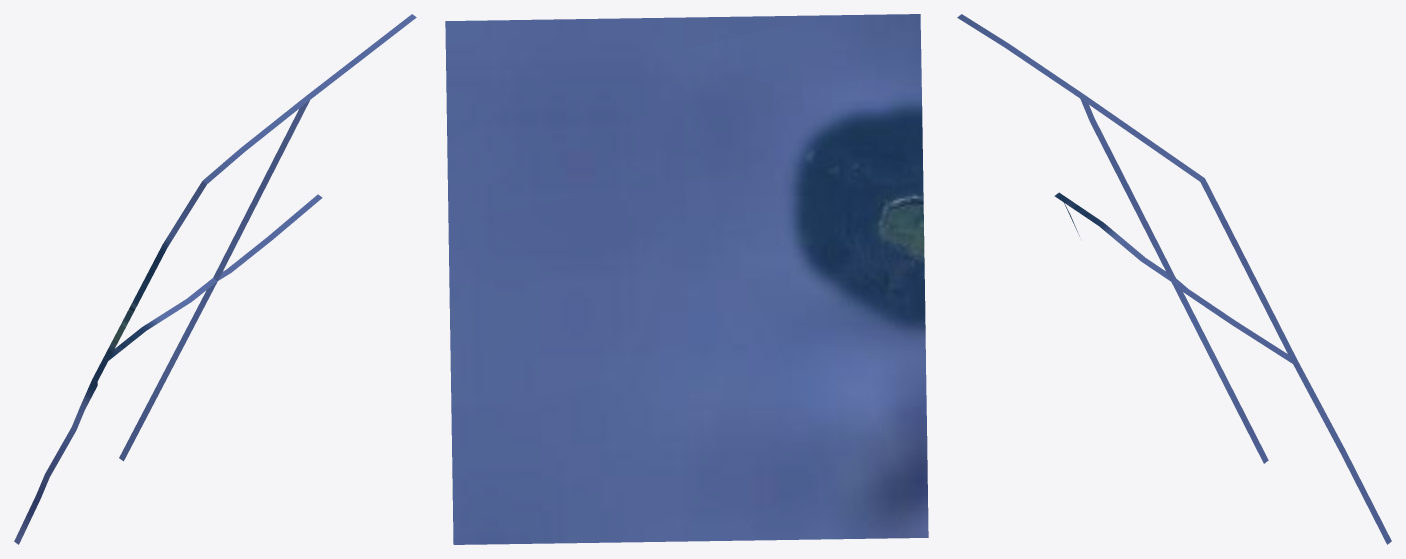
3 renders of one model, left to right at view 1: azimuth 30°, elevation 25°; view 2: azimuth 150°, elevation 25°; view 3: azimuth 270°, elevation 25°, orthographic. The views are drawn at different scales.
Bounding box in the file's own units: 9806 × 8874 × 8399.
Materials: 1 (1 with a texture image).
